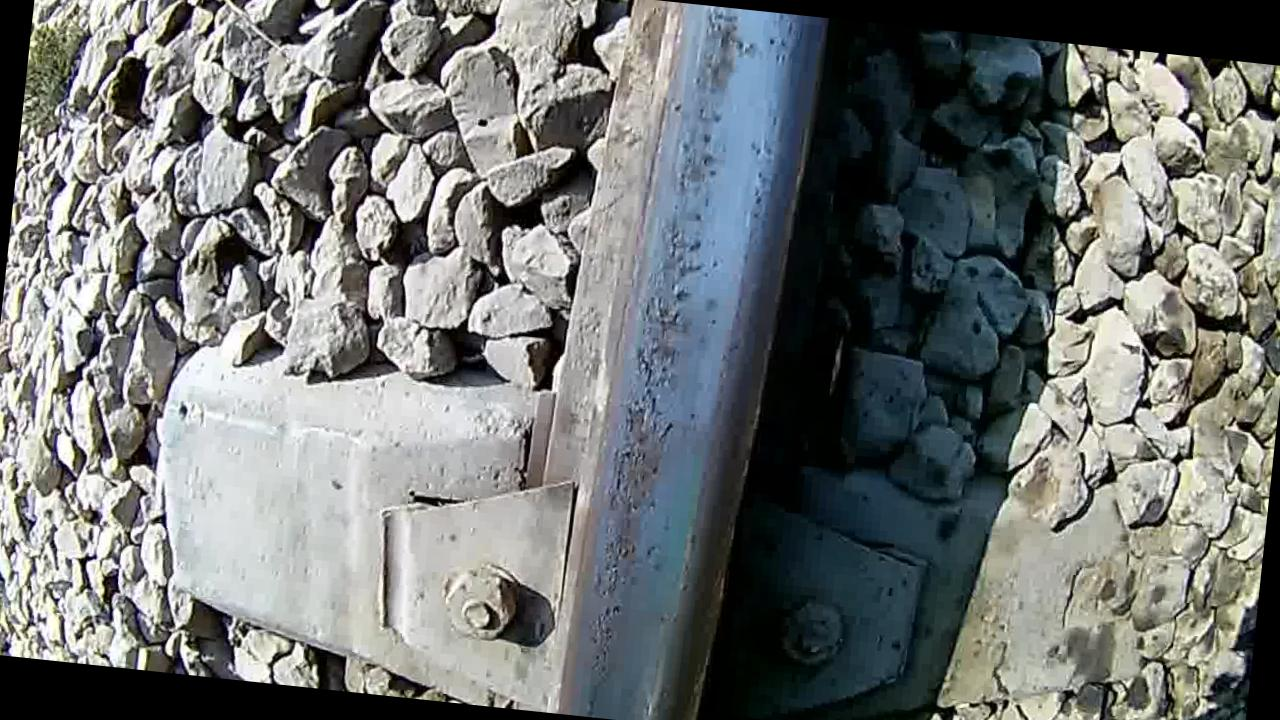crack: (555, 0, 819, 720)
